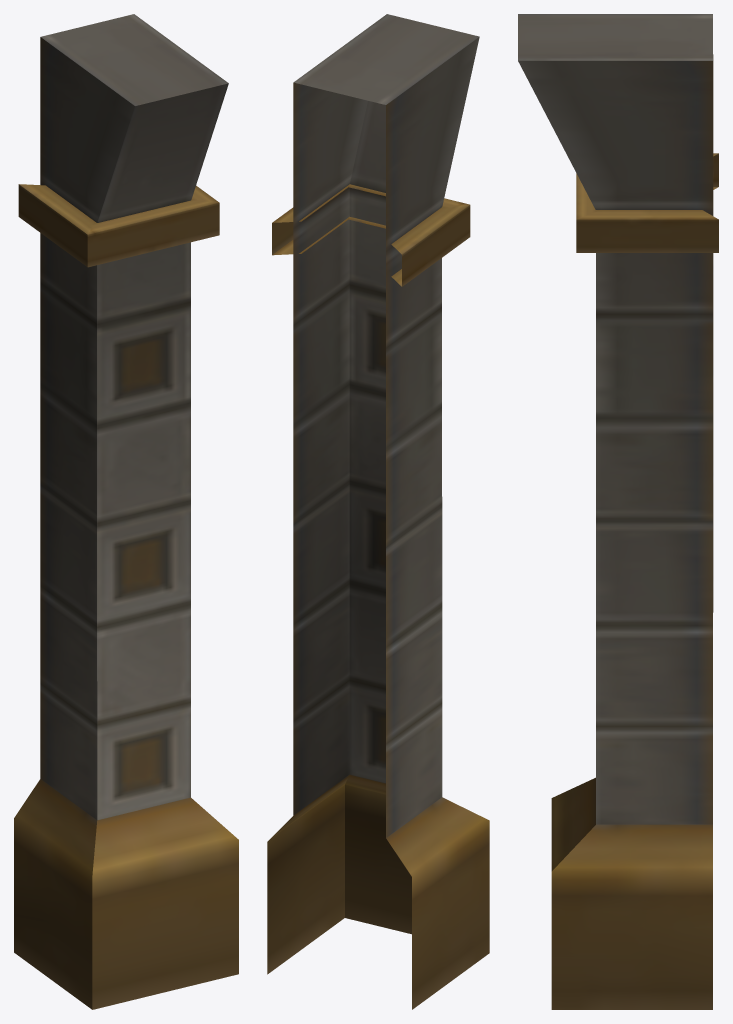
File: Battle06_Pillar_04.FBX
The picture shows the model from 3 angles, left to right: view 1: azimuth 30°, elevation 25°; view 2: azimuth 150°, elevation 25°; view 3: azimuth 270°, elevation 25°; orthographic projection. The views are drawn at different scales.
Parts seen in each view (by area): view 1: Battle06_Pillar_04; view 2: Battle06_Pillar_04; view 3: Battle06_Pillar_04.
Boxes of the visible parts, x1,y1,x2,y2 form: Battle06_Pillar_04: (14, 14, 238, 1009); Battle06_Pillar_04: (267, 14, 489, 1009); Battle06_Pillar_04: (518, 14, 718, 1009).
Size of the model in its own units: 1.56 by 9.26 by 1.8.
